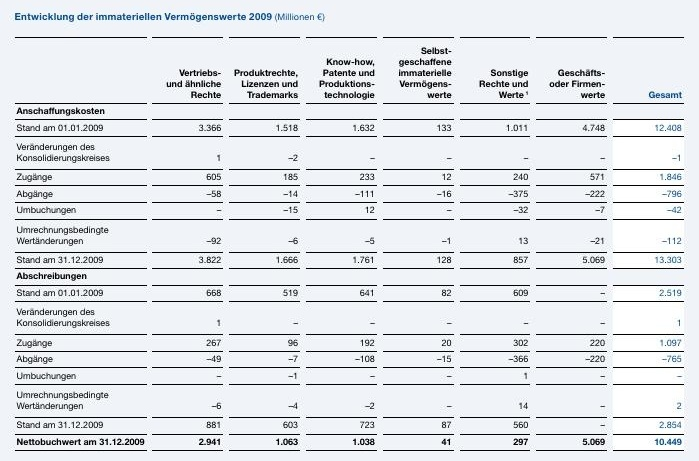table: (0, 0, 699, 461)
